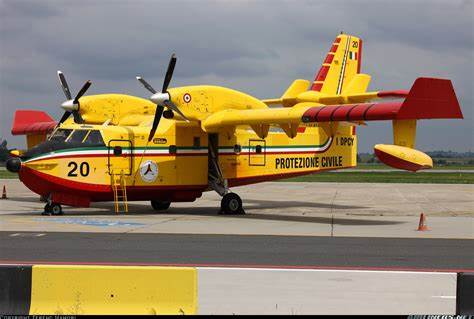Aeronef_de_service: (1, 26, 469, 219)
